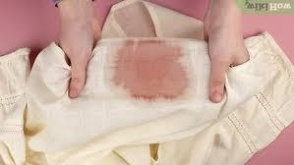wine: (117, 40, 192, 100)
